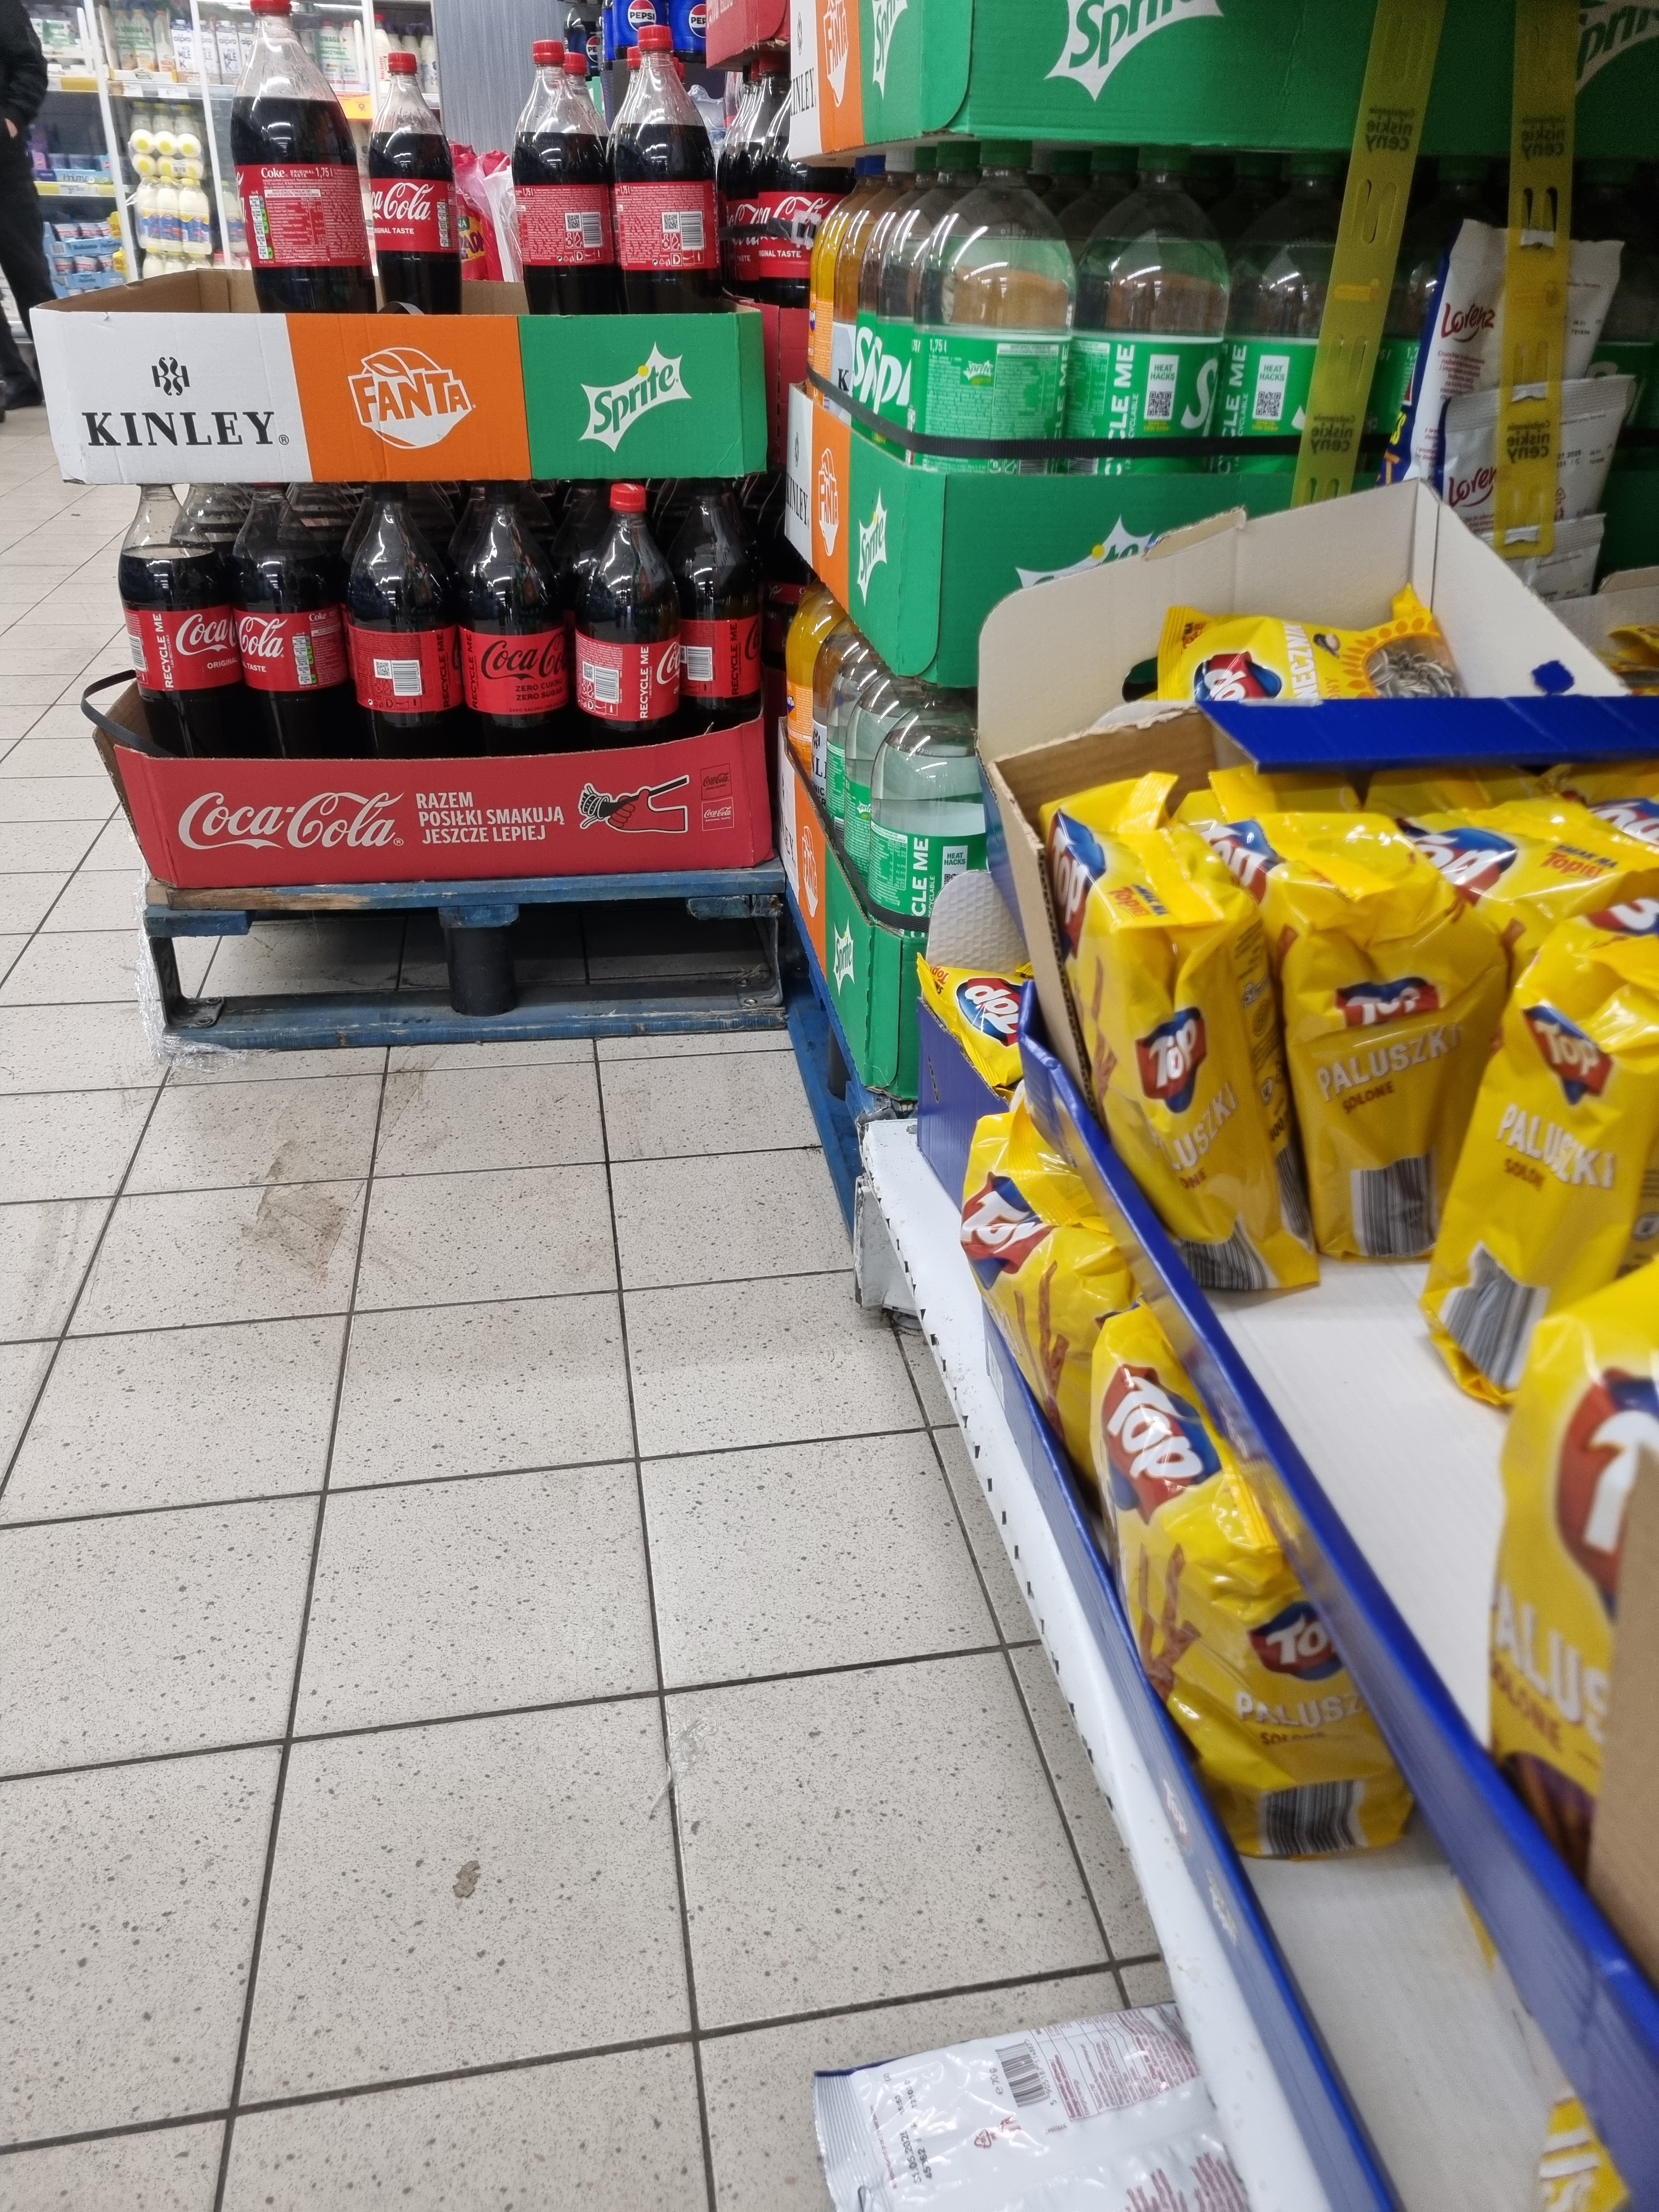Coca Cola: (227, 5, 369, 334), (112, 472, 249, 761), (612, 24, 741, 329), (451, 491, 580, 754), (340, 491, 465, 758), (512, 38, 627, 327), (230, 489, 350, 754), (356, 57, 477, 315), (732, 61, 856, 305), (579, 486, 688, 747), (674, 491, 767, 747)
